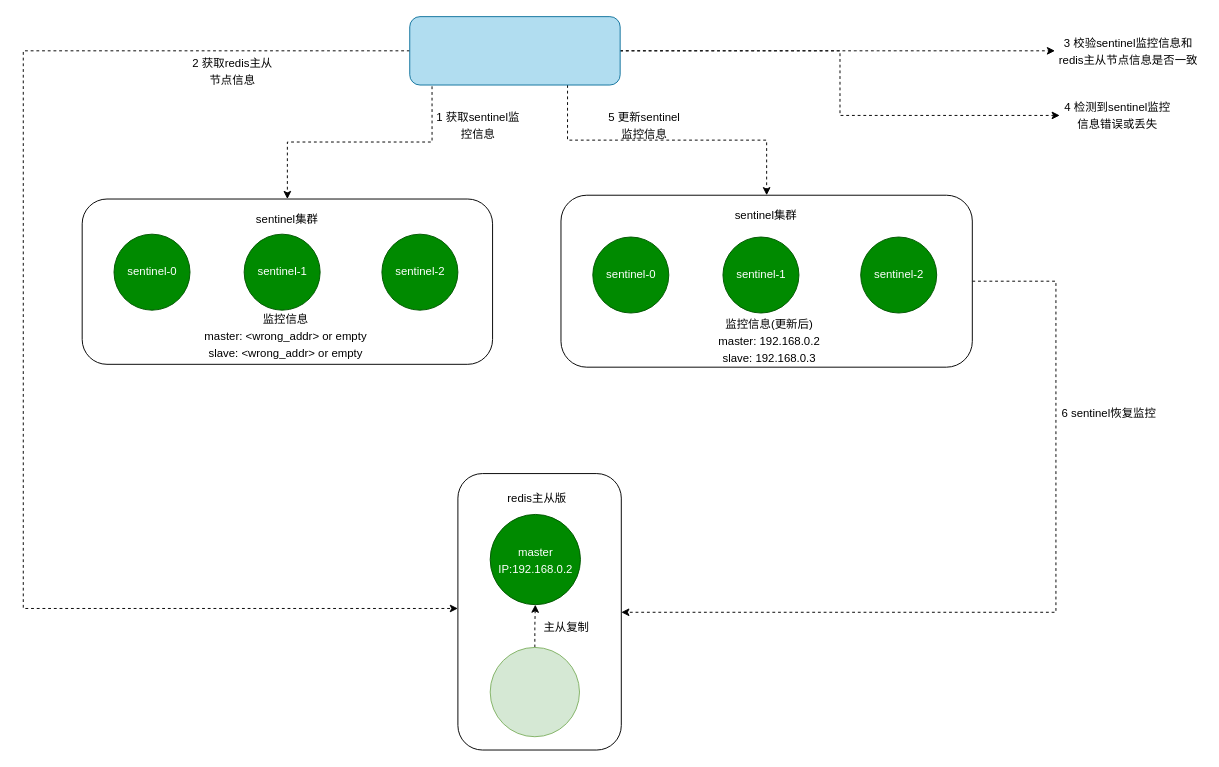
Some shapes in this 1219 by 767 pixel diagram are drawn without their labels. Each missing label, with the centre of its shape:
"redis-operator" belongs at point (514, 50).
"slave IP:192.168.0.3" belongs at point (534, 691).
